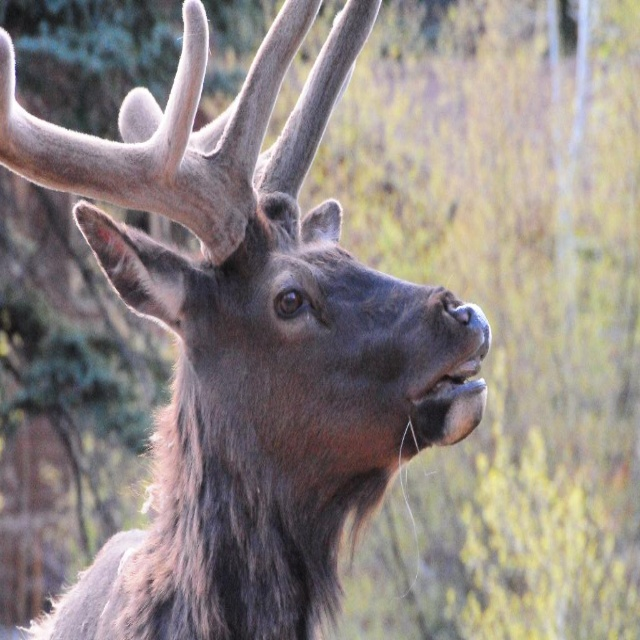Deer: (0, 0, 491, 640)
